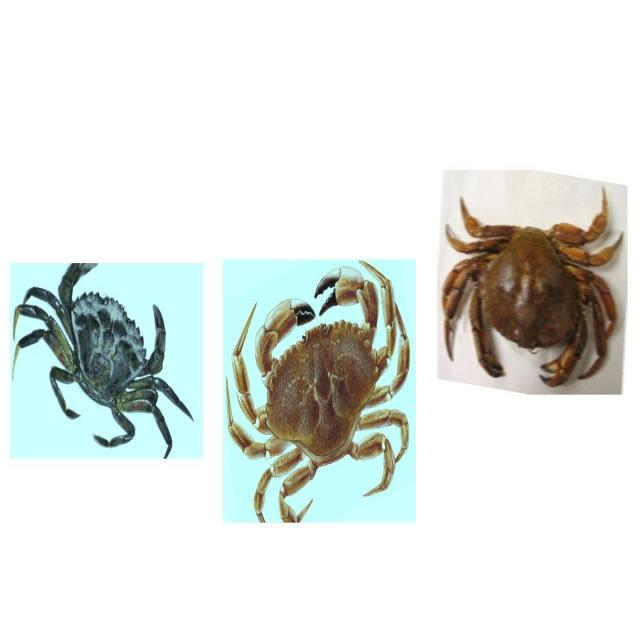egc: (11, 262, 194, 461)
